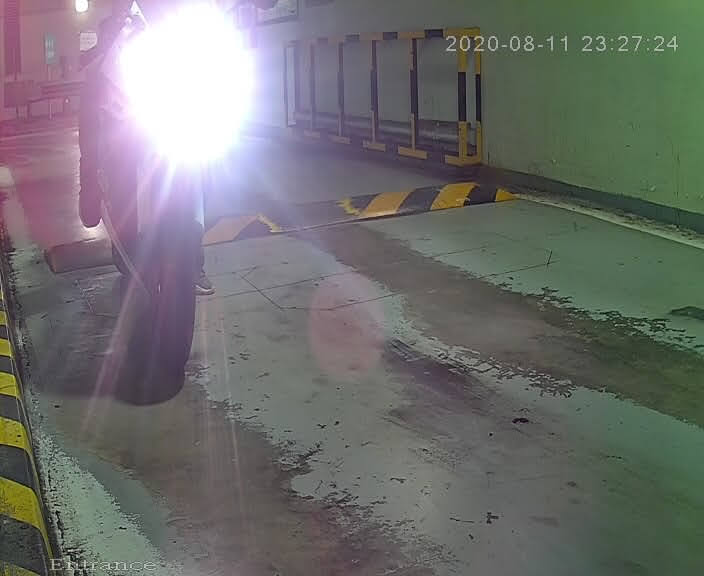motorcycle: (53, 1, 246, 359)
